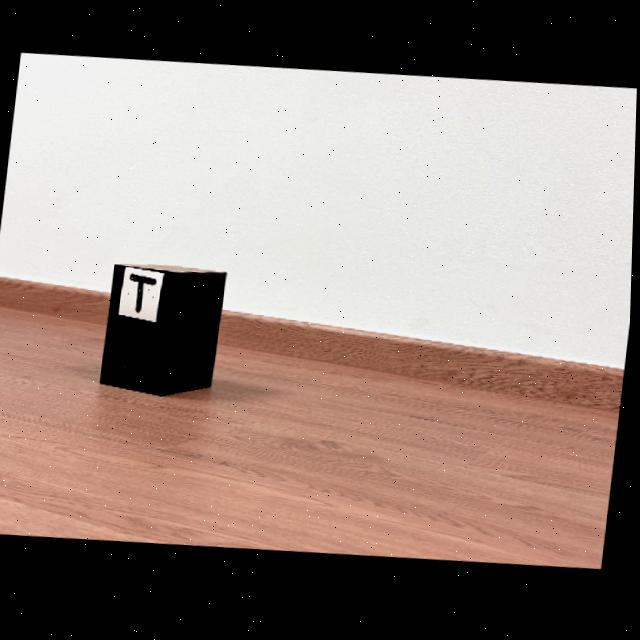T: (131, 275, 158, 313)
